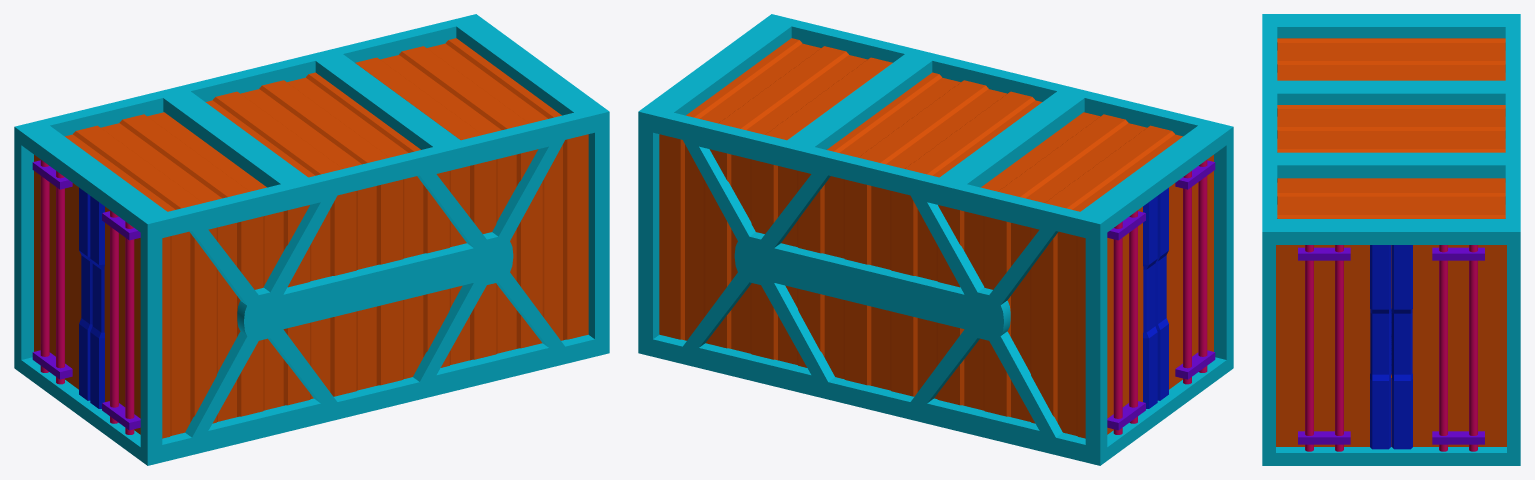
File: cargo_crate_2x2x4.glb
3 renders of one model, left to right at view 1: azimuth 30°, elevation 25°; view 2: azimuth 150°, elevation 25°; view 3: azimuth 270°, elevation 25°, orthographic. The views are drawn at different scales.
Visible parts, largest first — view 1: Cube.001, Cube.002, Cylinder, Cube.003, Cube.005; view 2: Cube.001, Cube.002, Cylinder, Cube.003, Cube.005; view 3: Cube.001, Cube.002, Cube.003, Cylinder, Cube.005.
Part boxes in pixels (bbox=[...]): Cube.001: bbox=[34, 38, 588, 438]; Cube.002: bbox=[14, 14, 609, 465]; Cylinder: bbox=[40, 159, 134, 434]; Cube.003: bbox=[79, 187, 104, 408]; Cube.005: bbox=[32, 160, 140, 430]; Cube.001: bbox=[659, 38, 1213, 438]; Cube.002: bbox=[638, 14, 1233, 465]; Cylinder: bbox=[1113, 159, 1207, 434]; Cube.003: bbox=[1143, 187, 1168, 408]; Cube.005: bbox=[1107, 160, 1215, 430]; Cube.001: bbox=[1276, 38, 1506, 446]; Cube.002: bbox=[1262, 14, 1520, 465]; Cube.003: bbox=[1370, 245, 1412, 449]; Cylinder: bbox=[1305, 245, 1477, 451]; Cube.005: bbox=[1298, 247, 1484, 444].
Bounding box in the file's own units: 4 × 2 × 2.
